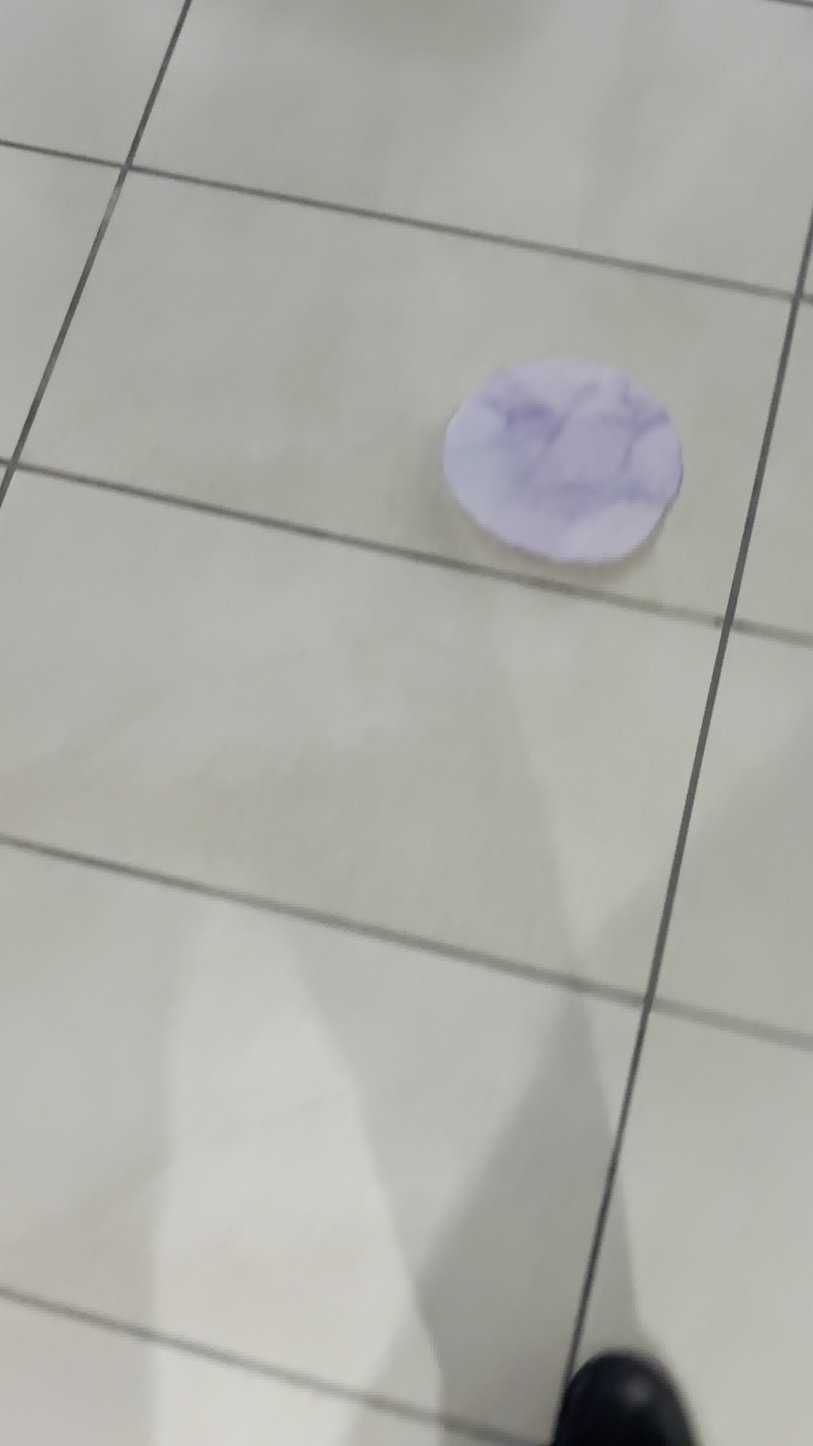Target: (431, 352, 695, 572)
